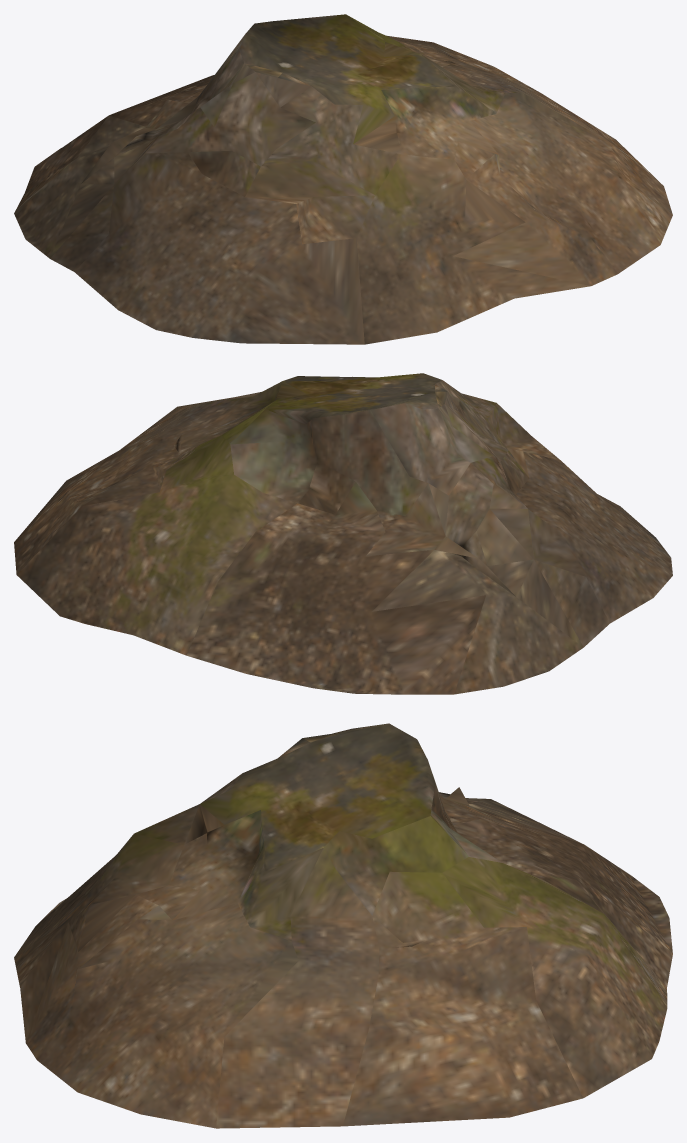
File: kutuk_lod2.glb
The picture shows the model from 3 angles, top to bottom: view 1: azimuth 30°, elevation 25°; view 2: azimuth 150°, elevation 25°; view 3: azimuth 270°, elevation 25°; orthographic projection. The views are drawn at different scales.
Visible parts, largest first — view 1: kutuk_lod2; view 2: kutuk_lod2; view 3: kutuk_lod2.
Part boxes in pixels (bbox=[...]): kutuk_lod2: bbox=[14, 14, 672, 344]; kutuk_lod2: bbox=[14, 373, 672, 694]; kutuk_lod2: bbox=[14, 723, 672, 1128].
Bounding box in the file's own units: 1.75 × 0.5922 × 1.6.
1 material, 1 textured.
